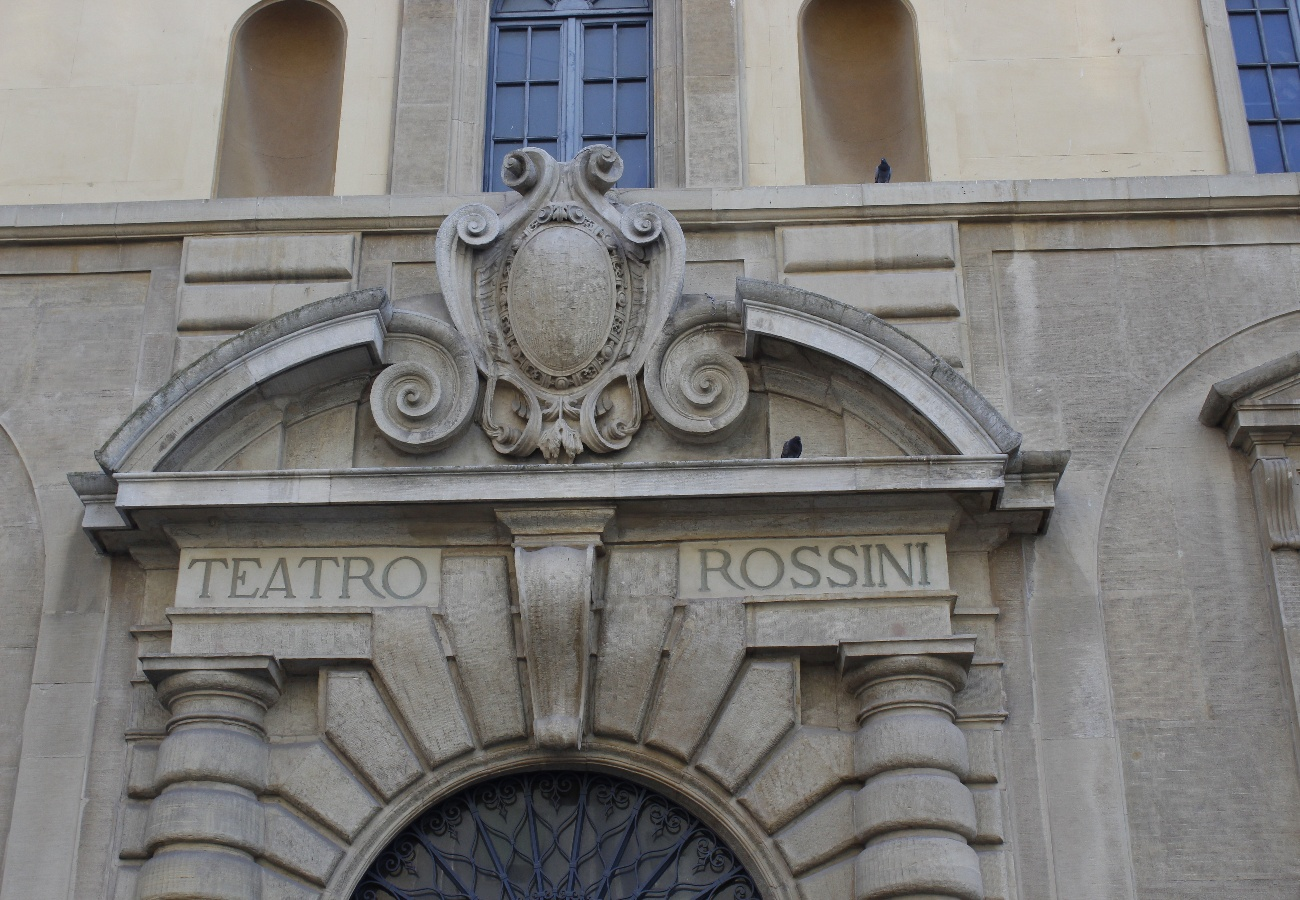Teatro Rossini: (69, 143, 1073, 831)
